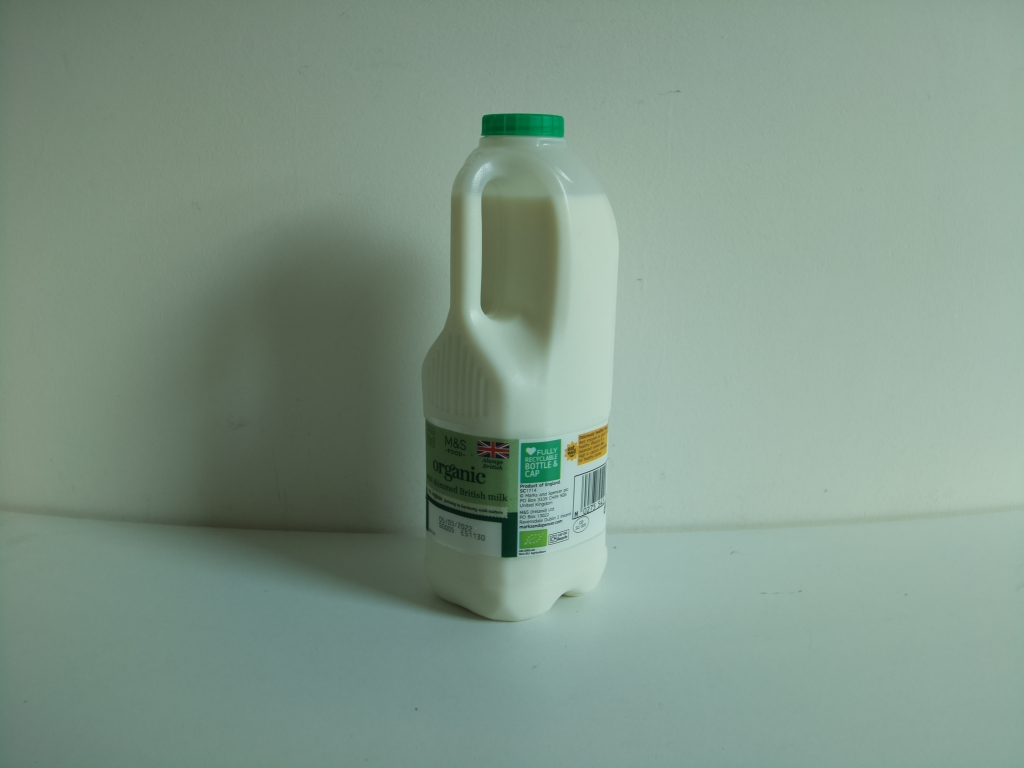milk: (415, 103, 624, 633)
